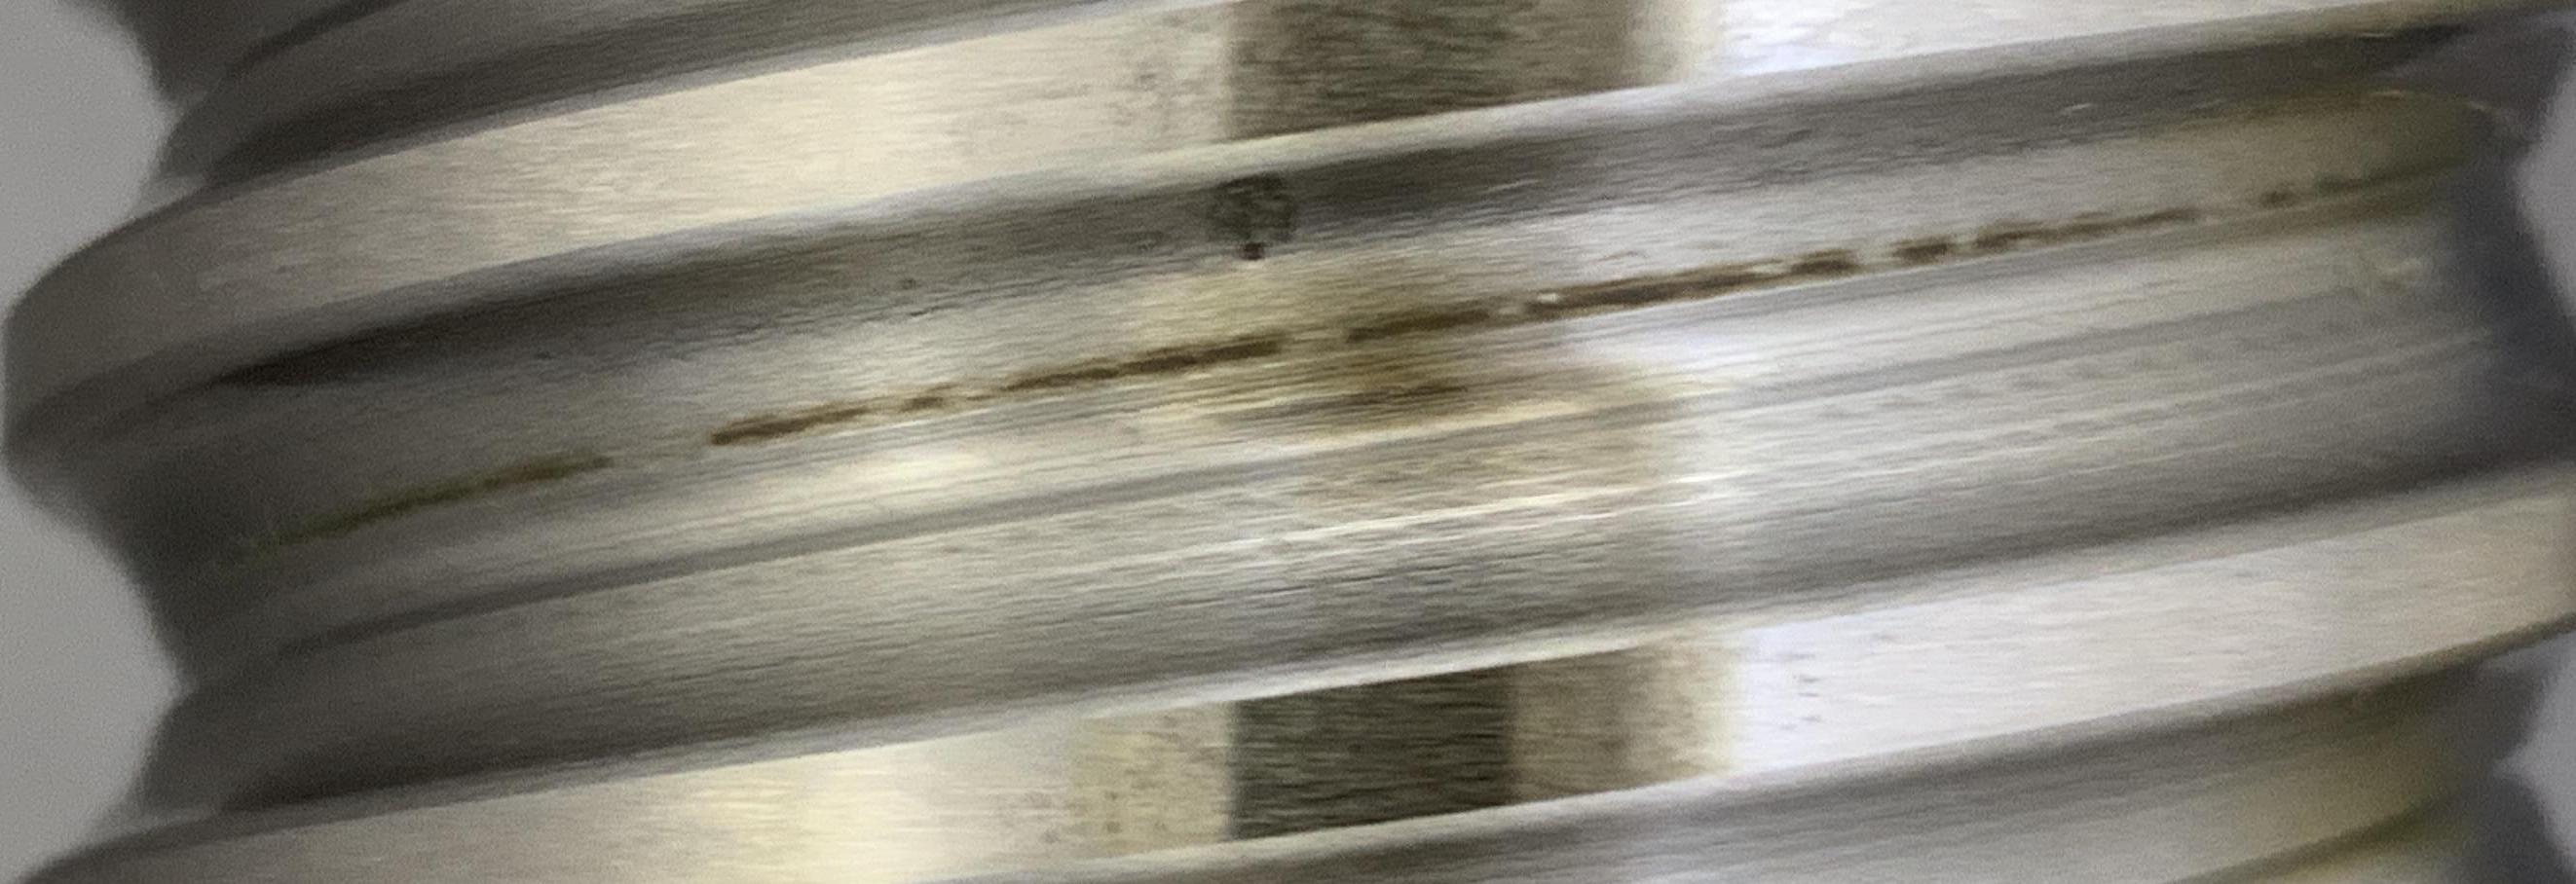pitting: (1203, 176, 1298, 261)
